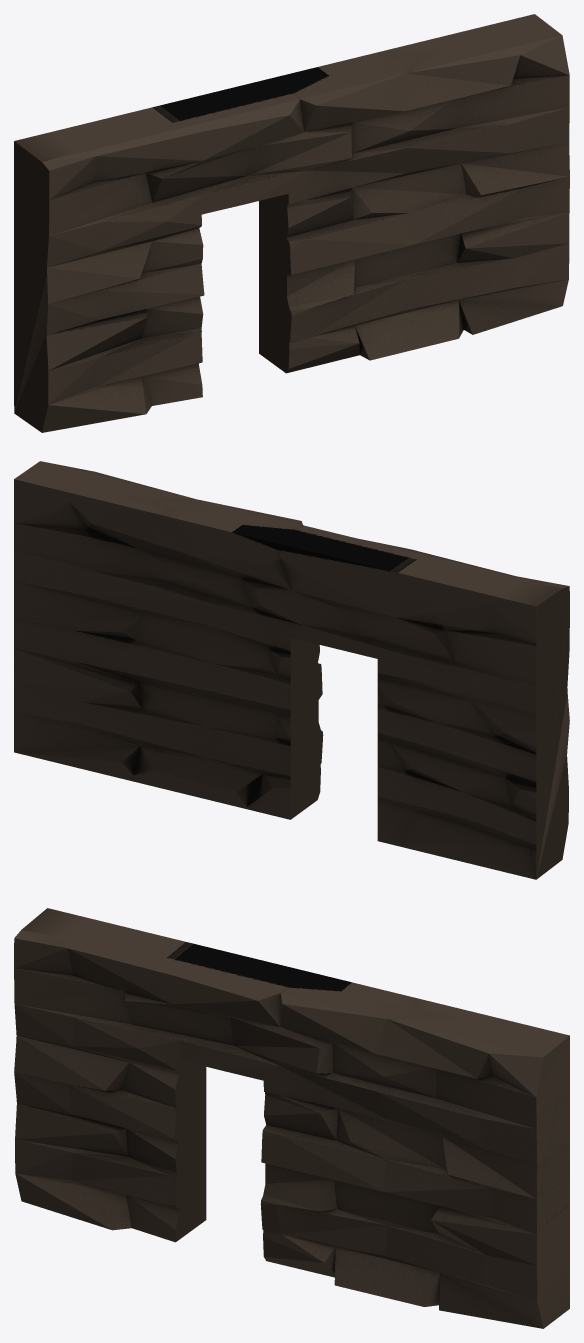
The model's file is Wall Brick Door.glb.
3 renders of one model, top to bottom at view 1: azimuth 30°, elevation 25°; view 2: azimuth 150°, elevation 25°; view 3: azimuth 330°, elevation 25°, orthographic.
Parts seen in each view (by area): view 1: wall_brick_door; view 2: wall_brick_door; view 3: wall_brick_door.
Boxes of the visible parts, bbox=[...] form: wall_brick_door: bbox=[14, 14, 569, 432]; wall_brick_door: bbox=[14, 461, 569, 879]; wall_brick_door: bbox=[14, 908, 569, 1328].
Size of the model in its own units: 6.01 by 3 by 0.7004.
1 material, 1 textured.
